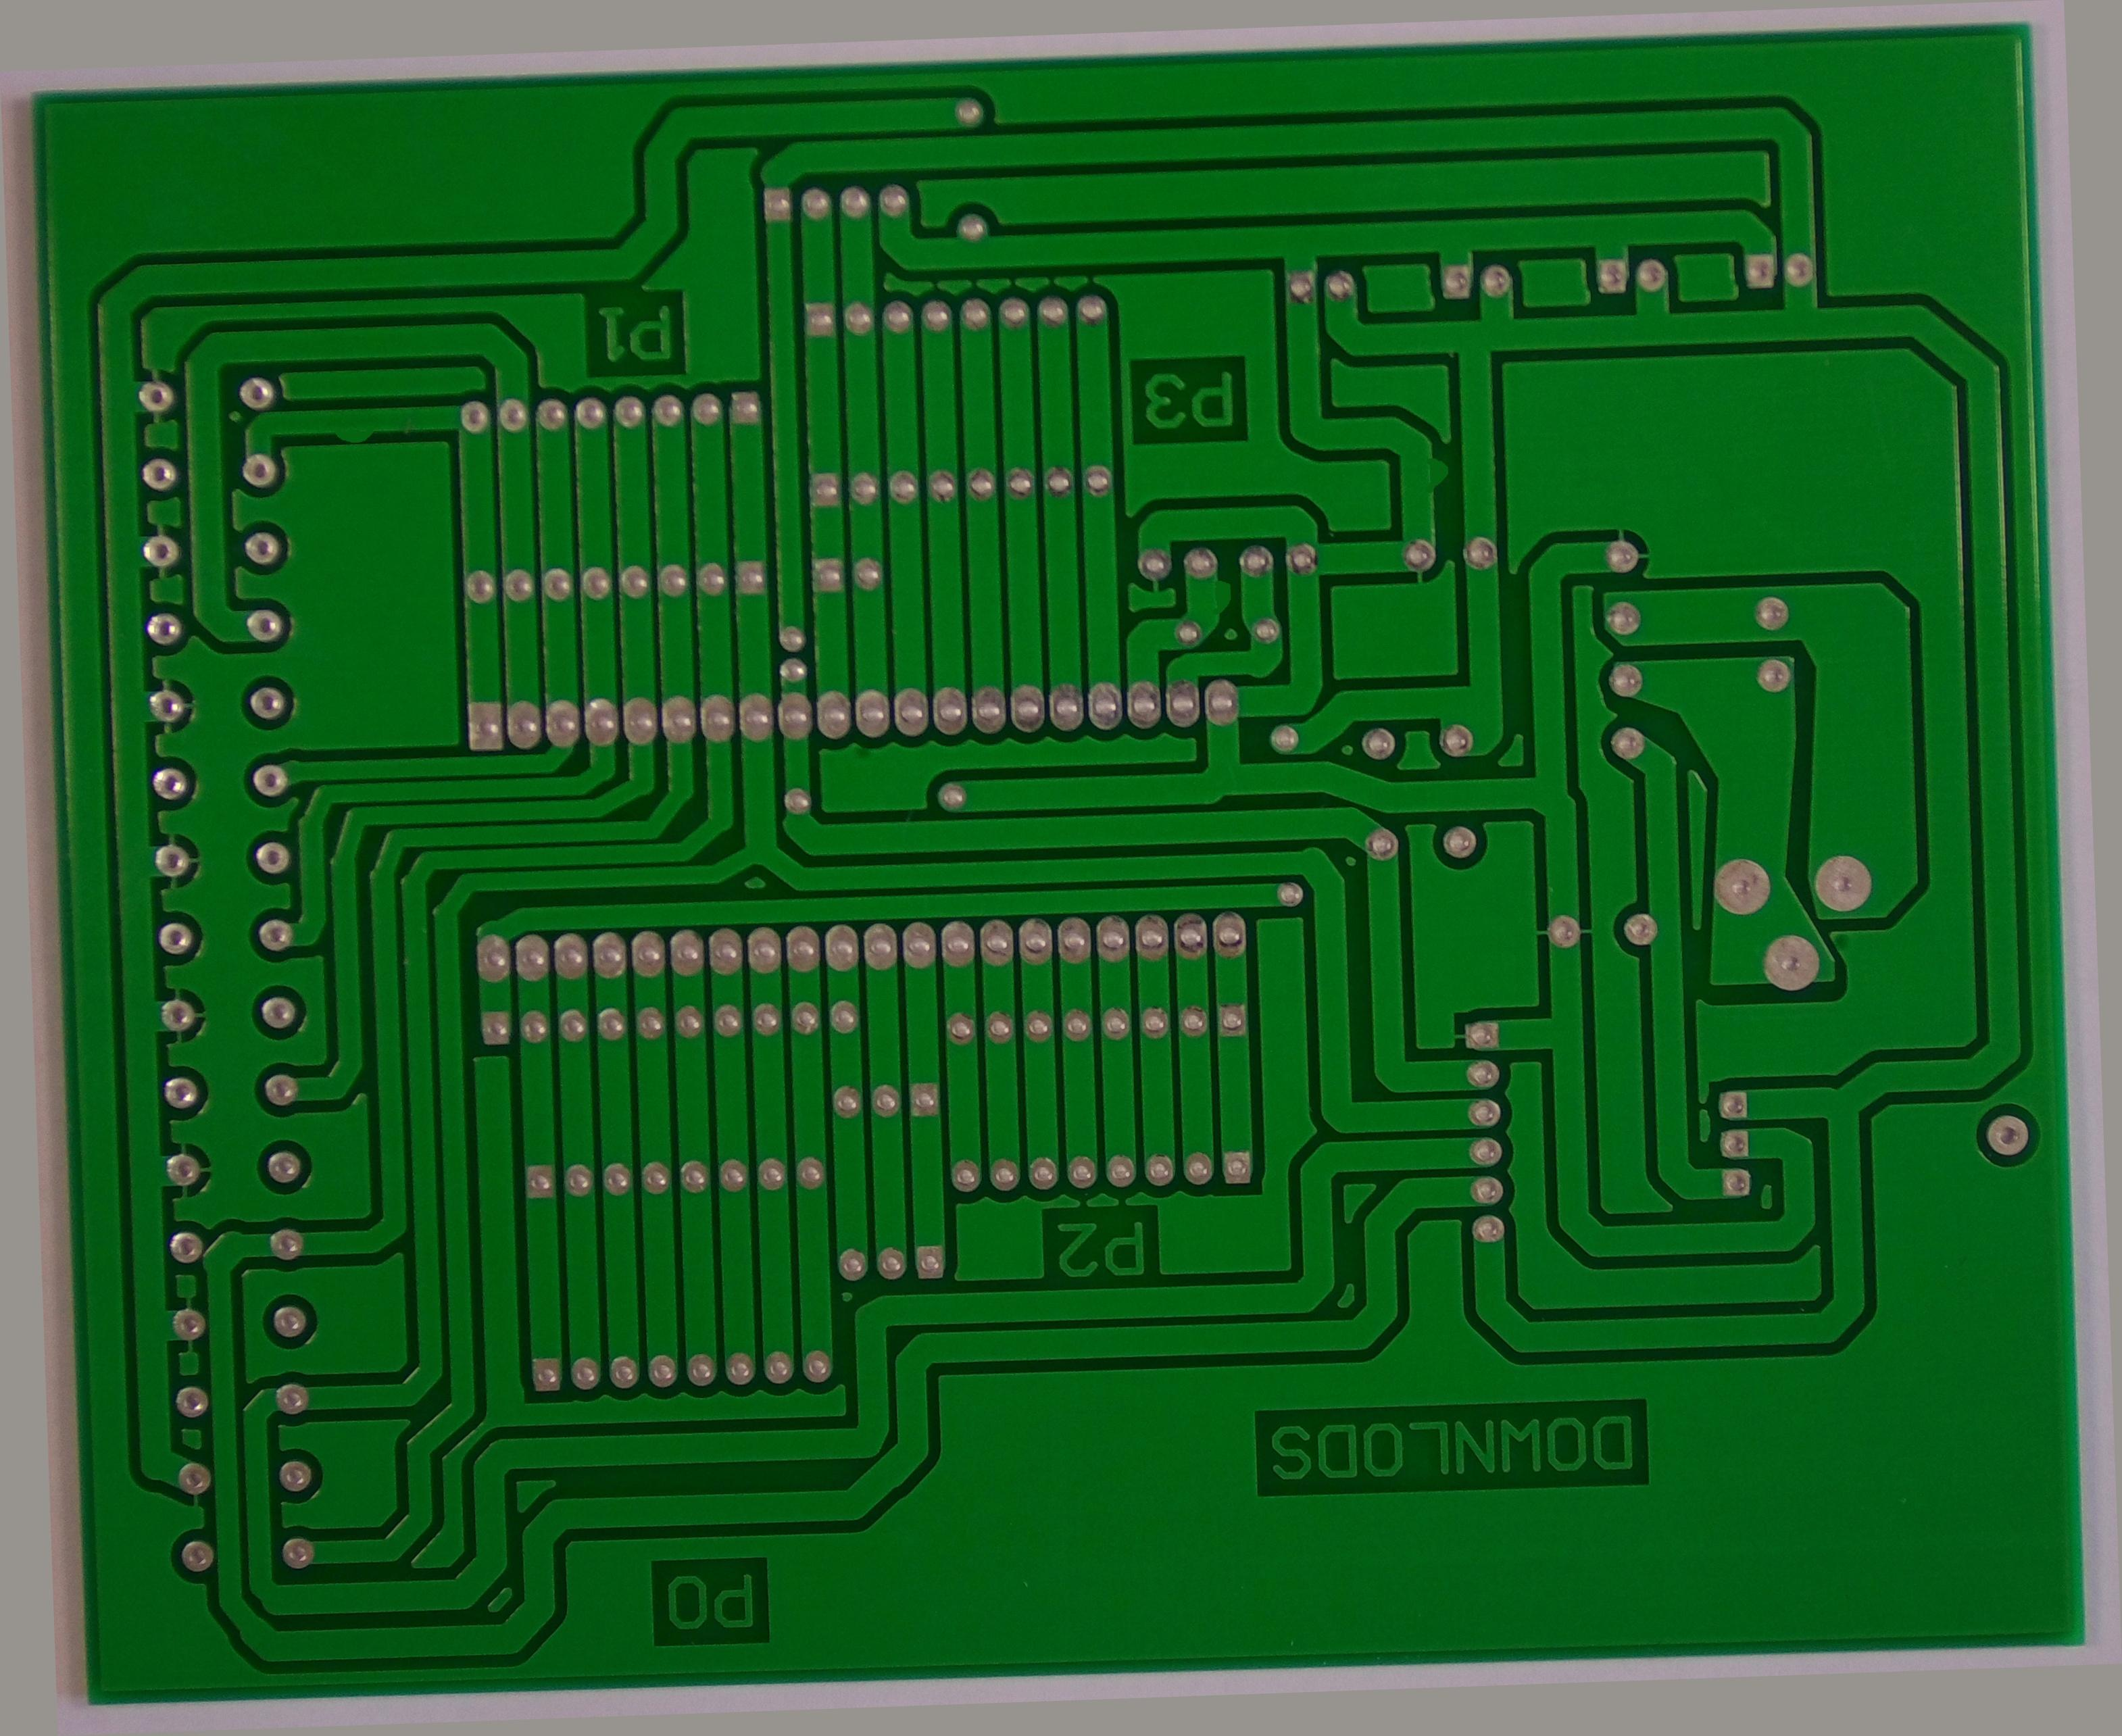spur: (319, 368, 381, 407), (1438, 435, 1479, 492), (1213, 562, 1255, 615)
